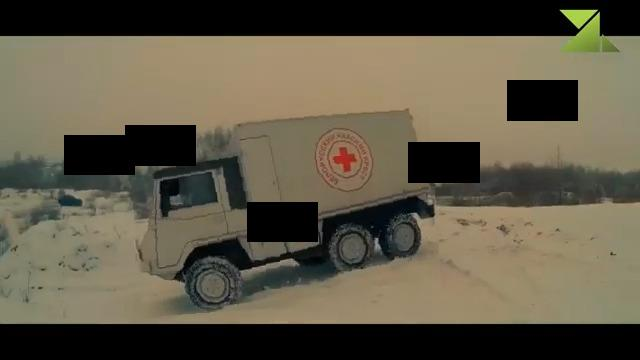MIL_HMMWV: (131, 110, 439, 312)
